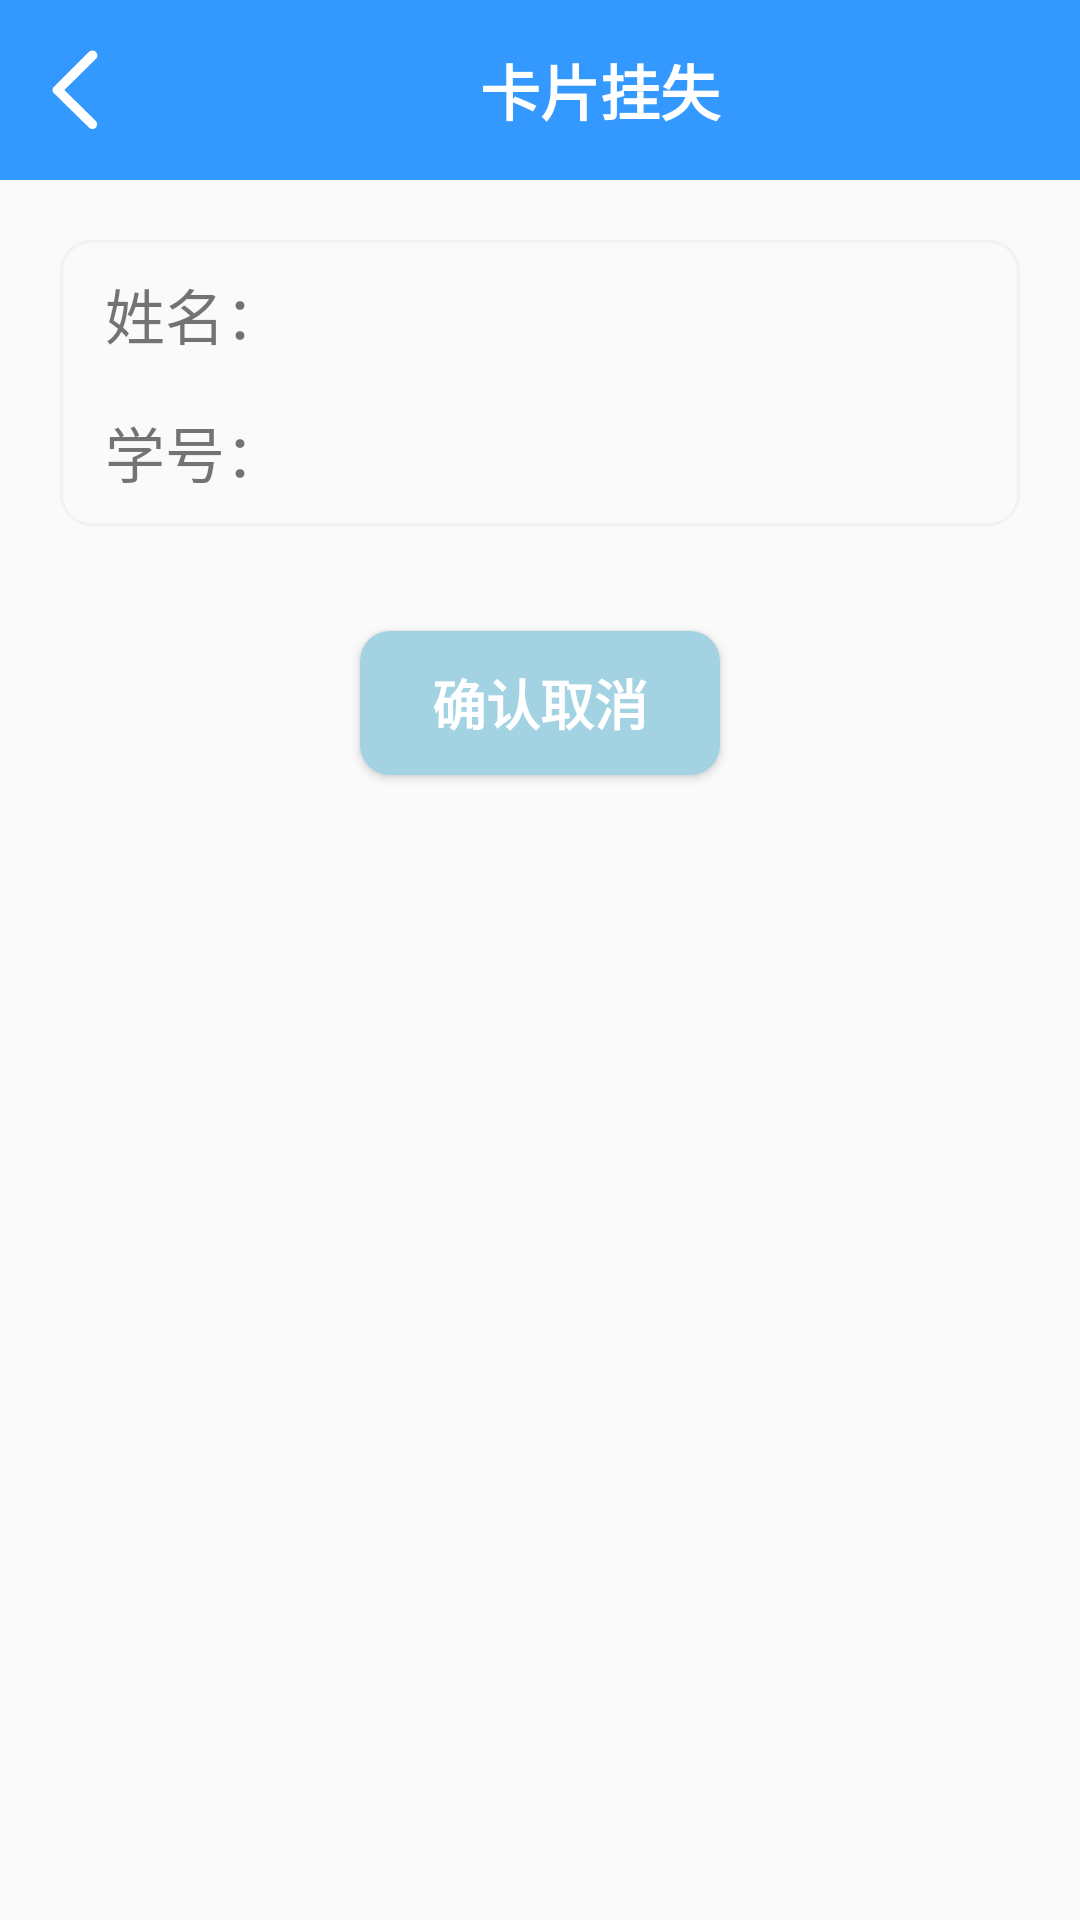

Where to tap for icons on this 1080x1920 app screen, as (x=x, y=y):
fanhui: (x=75, y=89)
